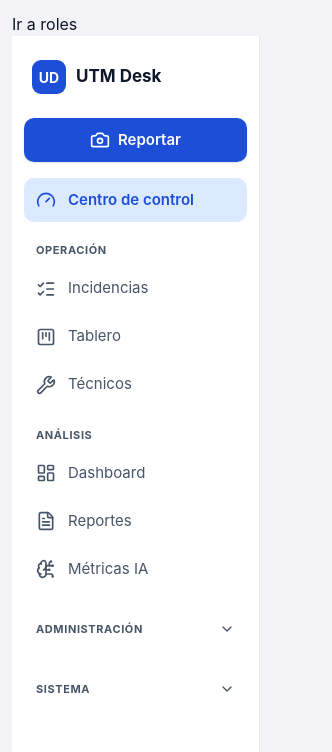
Test: NavegacionLateral › al navegar a una pantalla de un grupo cerrado, el grupo se abre
Click the link "Ir a roles".
click(45, 24)  # box [12,14,77,34]
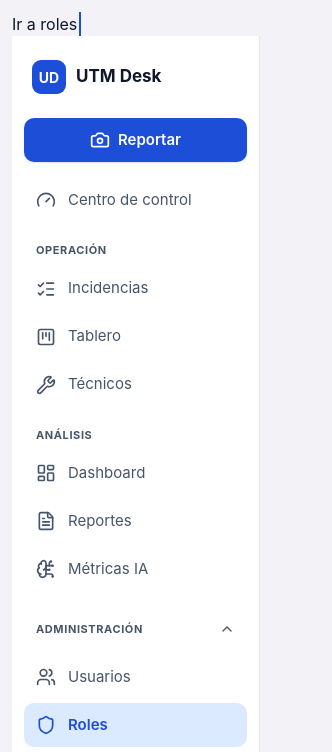
Expected: the button "Administración" is expanded, [24,607,247,651]
